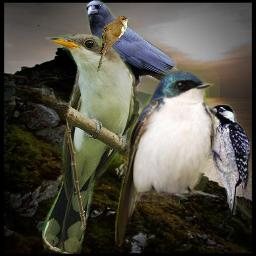Crow: (83, 0, 203, 114)
Cuckoo: (42, 34, 138, 254), (97, 15, 131, 73)
Swallow: (115, 63, 220, 247)
Woodpecker: (202, 104, 250, 215)
